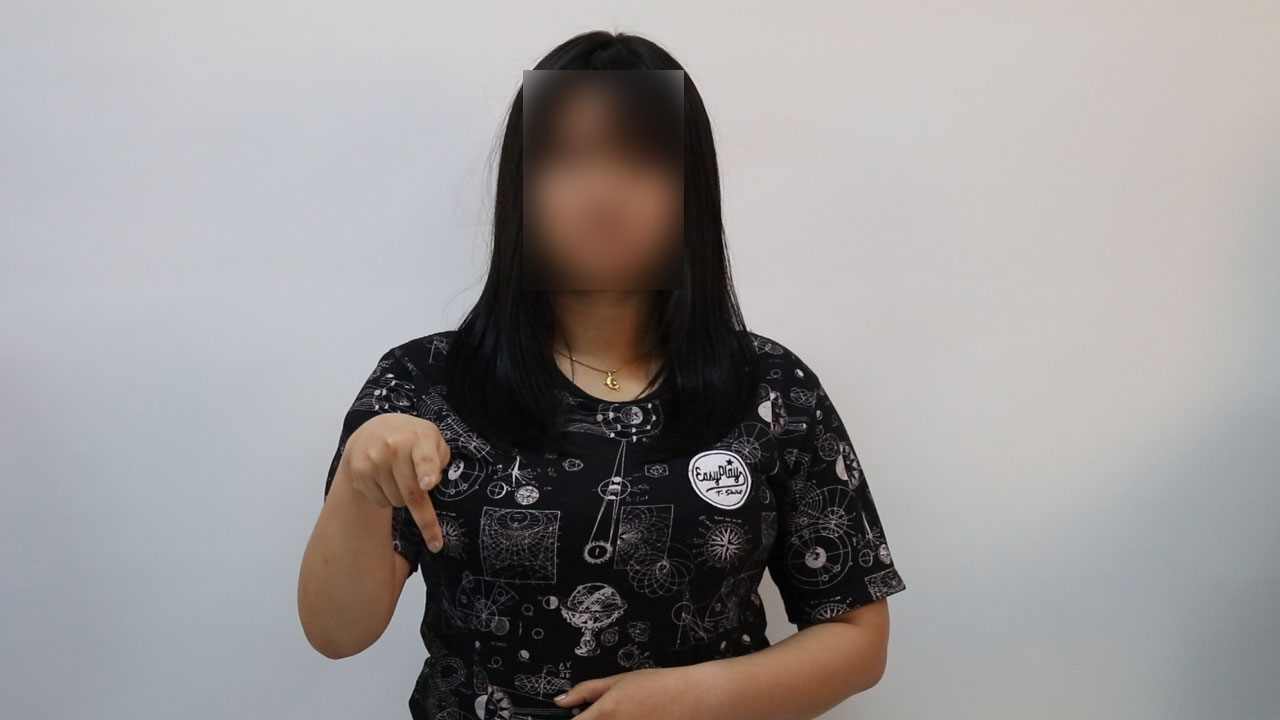por: (336, 401, 466, 563)
